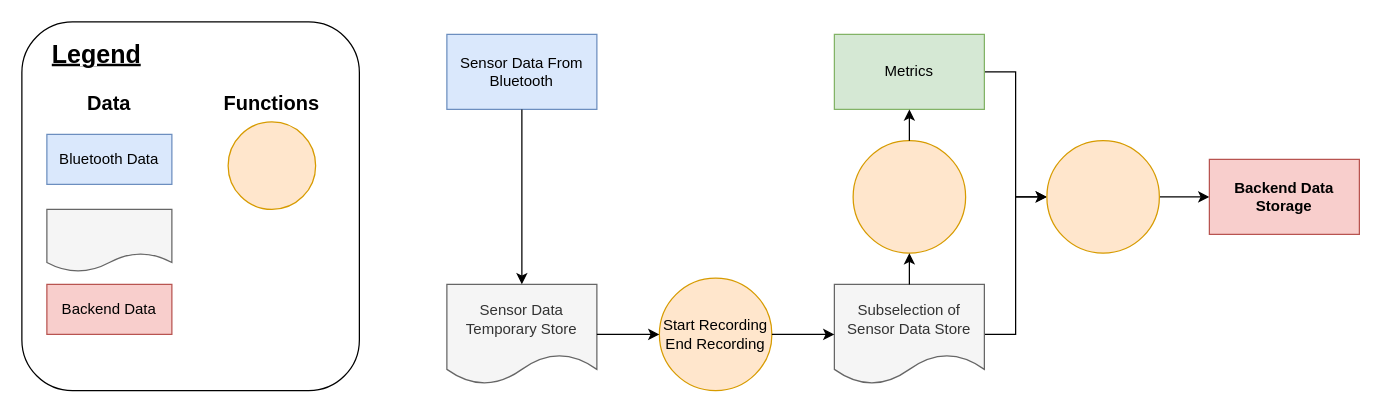
The diagram is 1381 pixels wide and 413 high, and some of its shapes have lost their labels. Here are the shapes that lost their labels. From the top down, the box of each, then its label:
(227, 121, 316, 209): Manipulate Data
(852, 139, 966, 253): Analyze Data
(1046, 139, 1159, 253): Save Data
(46, 208, 172, 272): Temporary Data Stores
